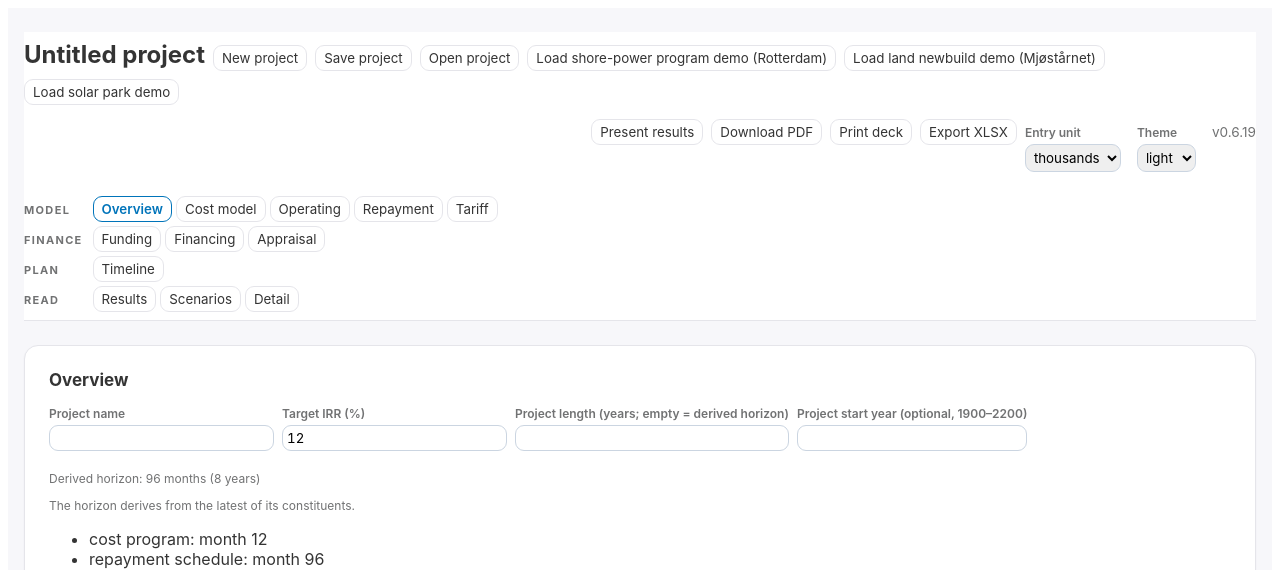
Yearly detail section (Task D web) › renders both grids with totals rows and the two tariff rows visible (v0.6.10 re-anchor: the program fixture presets a multi-row decompose tariff with riding gra
Step 1. Click the button "Load shore-power program demo (Rotterdam)" → (682, 58), box [527,45,836,71]
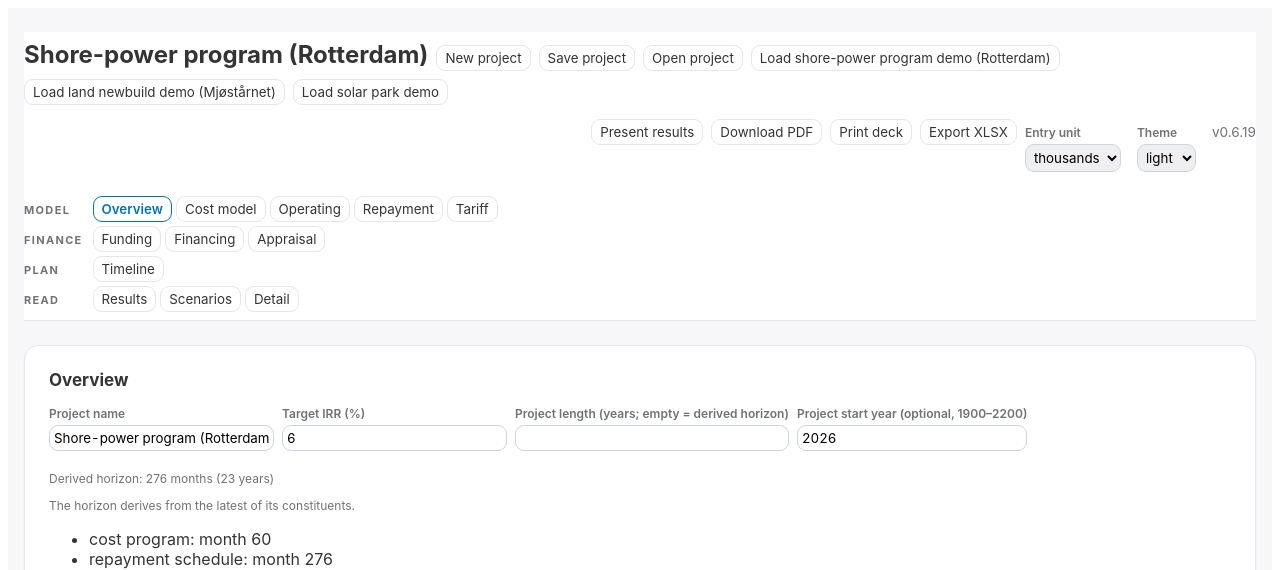
Step 2. Click the button "Detail" → (272, 299), box [245,286,299,312]
(page scrolled)
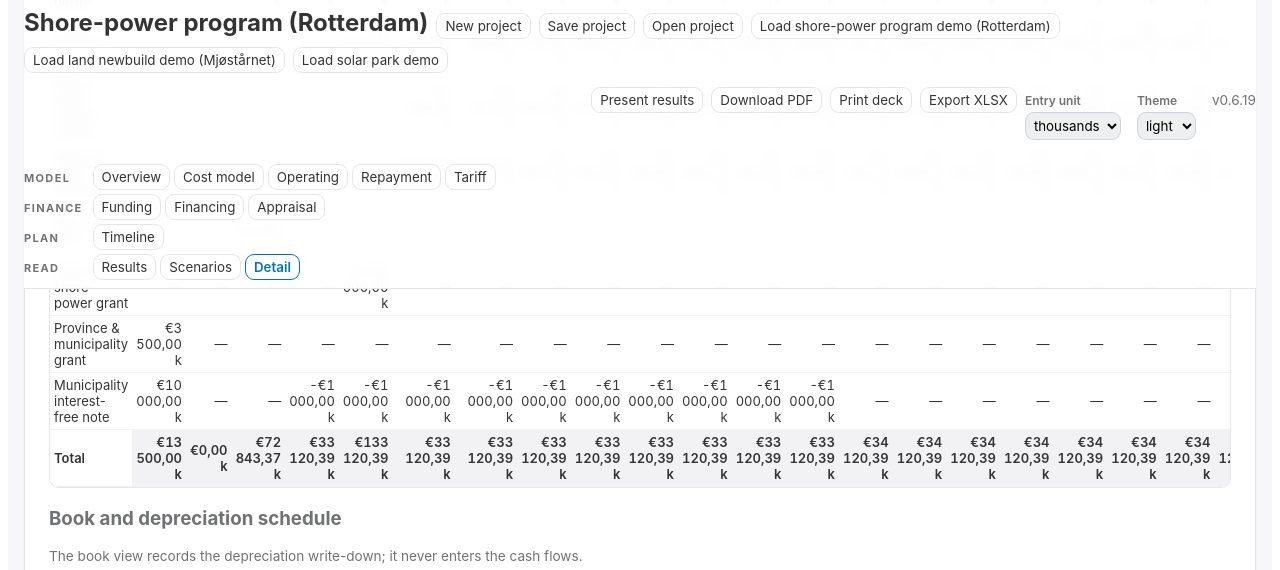
Expected: the row that starts with "Cruise terminal berths" is shown, [50,14,1231,71]
Expected: the row that starts with "Total" is shown, [50,429,1231,486]
Expected: the row that starts with "Bulk & liquid market berths" is shown, [50,71,1231,144]
